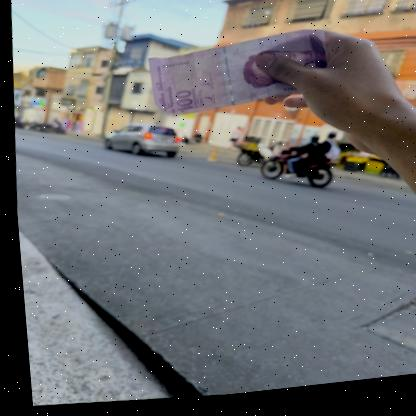vef_front: (140, 26, 330, 129)
